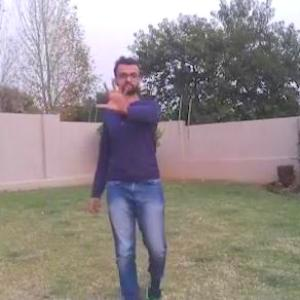follow_hand: (94, 69, 136, 115)
